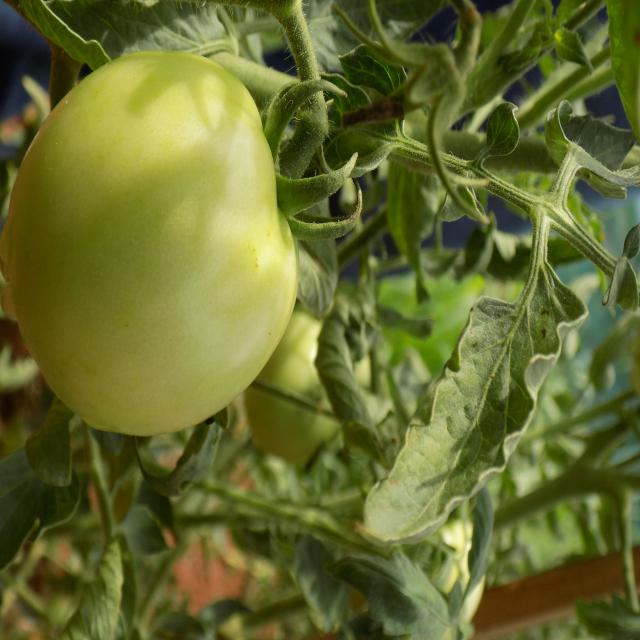tomato_healthy: (362, 265, 586, 552)
